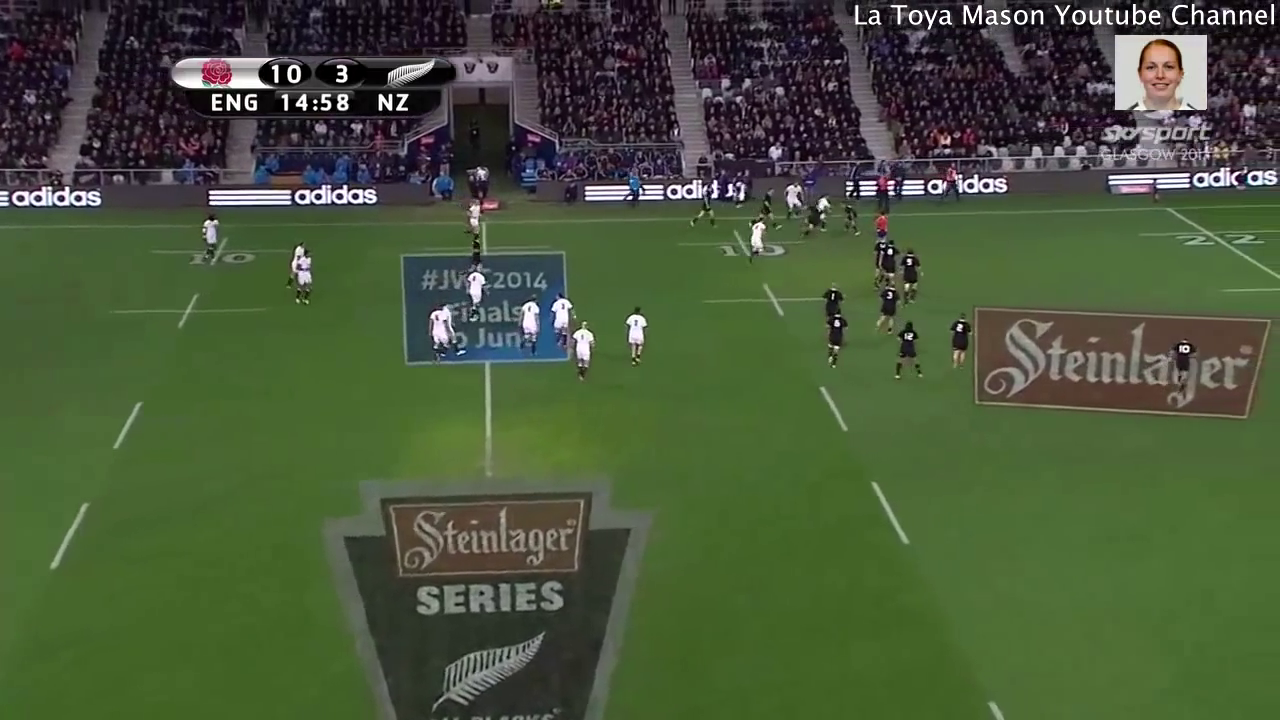10_metre: (101, 284, 280, 340), (145, 231, 312, 270), (697, 279, 851, 318), (675, 225, 810, 262)
player: (564, 314, 601, 389), (888, 314, 925, 385), (1166, 333, 1202, 402), (873, 279, 909, 345), (542, 282, 572, 359), (945, 308, 980, 373), (513, 293, 547, 358), (685, 178, 723, 236), (620, 303, 651, 374), (896, 243, 927, 313), (821, 307, 851, 375), (459, 264, 490, 325), (818, 273, 847, 330), (198, 208, 228, 261), (750, 185, 784, 231), (426, 304, 451, 365), (741, 215, 772, 263), (443, 302, 468, 358), (297, 246, 318, 309), (837, 198, 867, 241), (781, 175, 809, 221), (285, 234, 306, 295), (881, 235, 904, 289), (464, 229, 489, 275), (463, 197, 487, 242), (872, 231, 891, 282), (800, 202, 823, 239), (871, 211, 897, 239), (817, 193, 834, 233)
